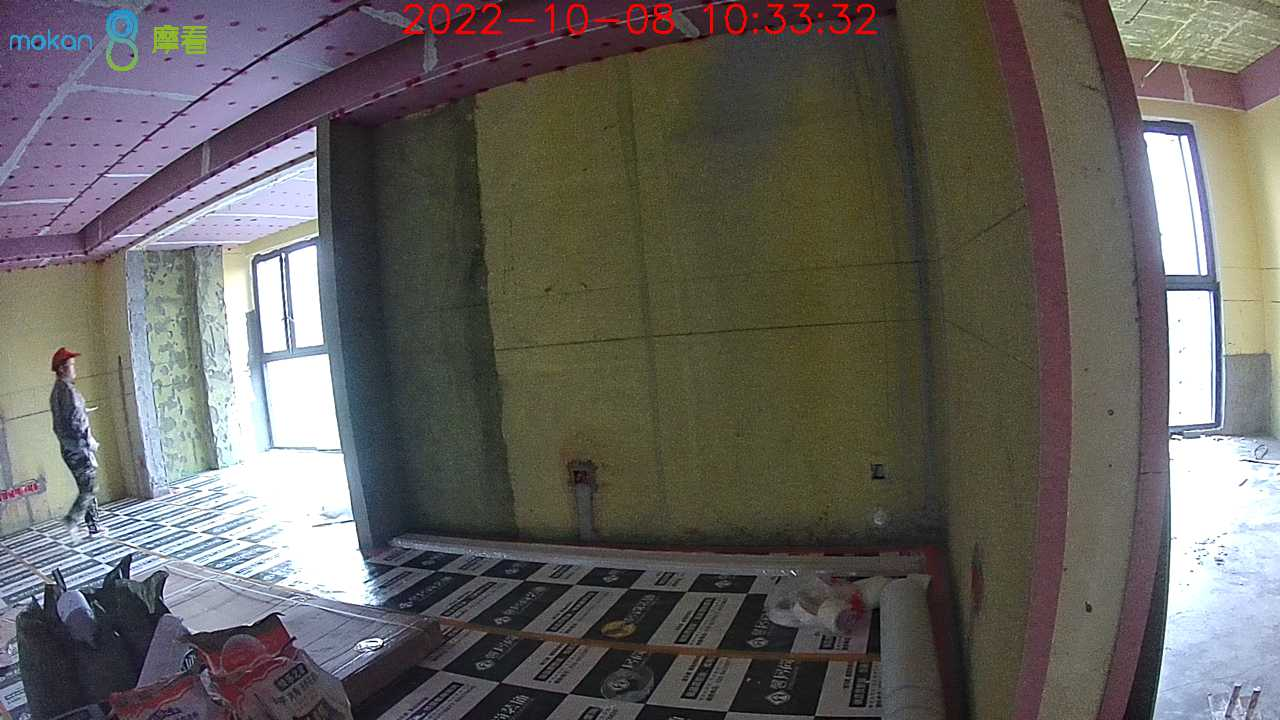people: (50, 348, 110, 538)
window: (1142, 122, 1221, 425), (249, 244, 344, 454)
